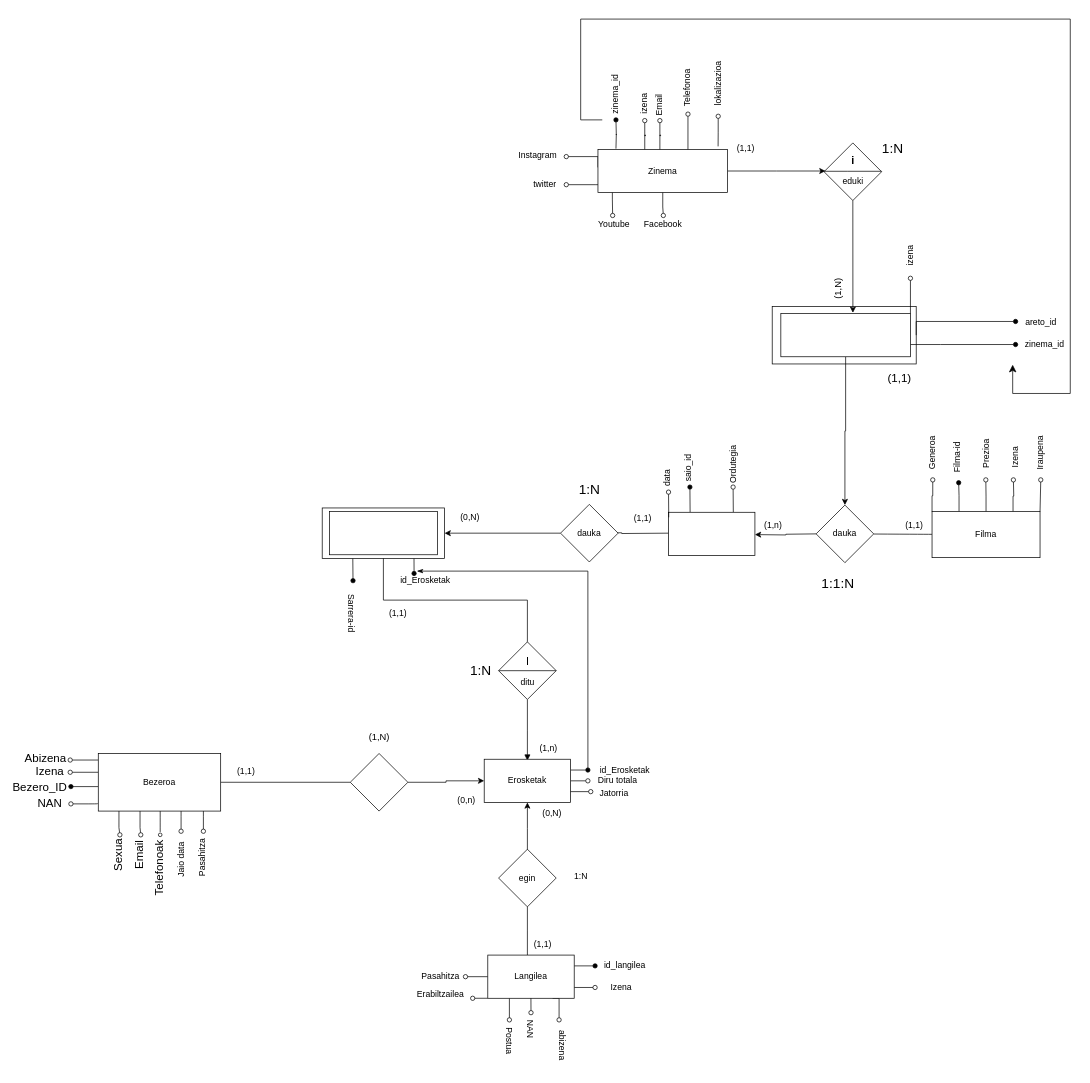
Some shapes in this 1090 by 1083 pixel diagram are drawn without their labels. The shapes that lost their labels are listed below. From the top down, each one's box as (x1, y1, x2, y2) in pixels, then its label:
(780, 313, 910, 357): Aretoa
(329, 511, 437, 555): Sarrera
(668, 512, 755, 555): Saioa
(350, 753, 408, 811): erosi
